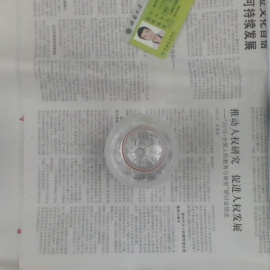bottle: (104, 114, 181, 191)
card: (124, 1, 196, 60)
